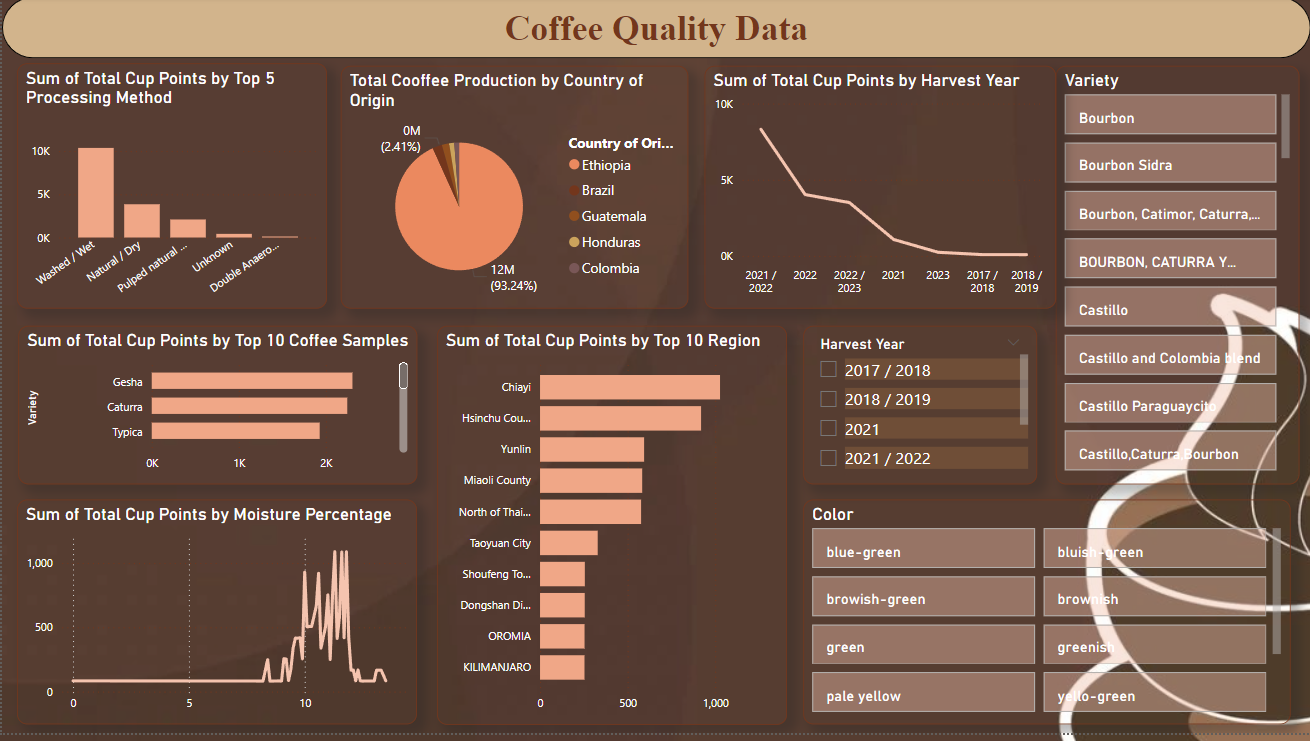

The page's visual inventory and layout, read from the dashboard file:
{"tool":"powerbi","page":{"name":"Task -4","canvas":[1280,720],"ordinal":5},"visuals":[{"type":"shape","box":[0,0,1280.3,59.9],"z":0},{"type":"advancedSlicerVisual","fields":{"Values":["coffee data.Variety"]},"box":[1030.8,67.3,238.5,409.6],"z":1000},{"type":"clusteredColumnChart","title":"Sum of Total Cup Points by Top 5  Processing Method","fields":{"Category":["coffee data.Processing Method"],"Y":["Sum(coffee data.Total Cup Points)"]},"box":[14.7,64.8,303.3,239.7],"z":2000},{"type":"clusteredBarChart","title":"Sum of Total Cup Points by Top 10  Region","fields":{"Category":["coffee data.Region"],"Y":["Sum(coffee data.Total Cup Points)"]},"box":[425.5,321.6,342.4,390.1],"z":3000},{"type":"clusteredBarChart","title":"Sum of Total Cup Points by Top 10 Coffee Samples","fields":{"Category":["coffee data.Variety"],"Y":["Sum(coffee data.Total Cup Points)"]},"box":[15.9,321.6,390.1,155.3],"z":4000},{"type":"lineChart","fields":{"Category":["coffee data.Moisture Percentage"],"Y":["Sum(coffee data.Total Cup Points)"]},"box":[14.7,491.6,391.3,220.1],"z":5000},{"type":"lineChart","fields":{"Category":["coffee data.Harvest Year"],"Y":["Sum(coffee data.Total Cup Points)"]},"box":[687.2,67.3,343.6,237.2],"z":6000},{"type":"pieChart","title":"Total Cooffee Production by Country of Origin","fields":{"Y":["Sum(coffee data.Total Bag Weight(kg))"],"Category":["coffee data.Country of Origin"]},"box":[331.4,67.3,339.9,237.2],"z":7000},{"type":"slicer","fields":{"Values":["coffee data.Harvest Year"]},"box":[783.8,321.6,228.7,155.3],"z":8000},{"type":"advancedSlicerVisual","fields":{"Values":["coffee data.Color"]},"box":[783.8,491.6,476.9,220.1],"z":9000}]}

Visuals, with their boxes in screenshot pixels (x1, y1, x2, y2), scaled from the page's 1280x720 canvas onto the 1310x741 screenshot:
shape: x1=0, y1=0, x2=1309, y2=62
advancedSlicerVisual - coffee data.Variety: x1=1055, y1=69, x2=1299, y2=491
"Sum of Total Cup Points by Top 5  Processing Method" clusteredColumnChart: x1=15, y1=67, x2=325, y2=313
"Sum of Total Cup Points by Top 10  Region" clusteredBarChart: x1=435, y1=331, x2=786, y2=732
"Sum of Total Cup Points by Top 10 Coffee Samples" clusteredBarChart: x1=16, y1=331, x2=416, y2=491
lineChart - coffee data.Moisture Percentage x Sum(coffee data.Total Cup Points): x1=15, y1=506, x2=416, y2=732
lineChart - coffee data.Harvest Year x Sum(coffee data.Total Cup Points): x1=703, y1=69, x2=1055, y2=313
"Total Cooffee Production by Country of Origin" pieChart: x1=339, y1=69, x2=687, y2=313
slicer - coffee data.Harvest Year: x1=802, y1=331, x2=1036, y2=491
advancedSlicerVisual - coffee data.Color: x1=802, y1=506, x2=1290, y2=732
